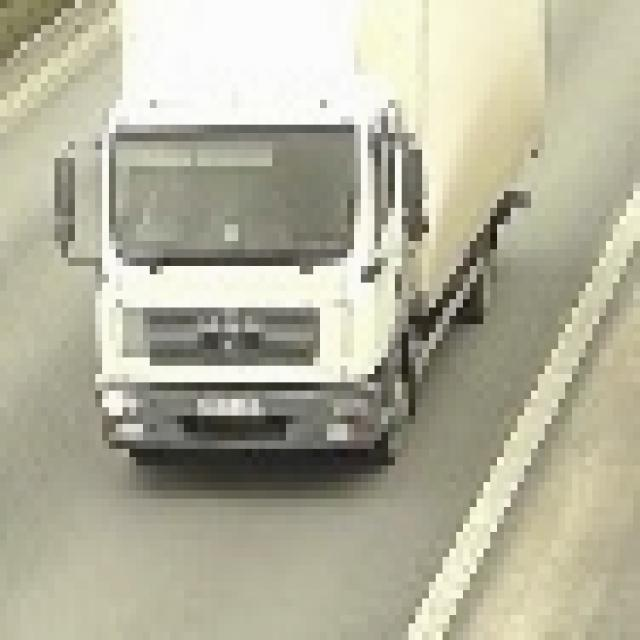truck: (56, 1, 546, 475)
